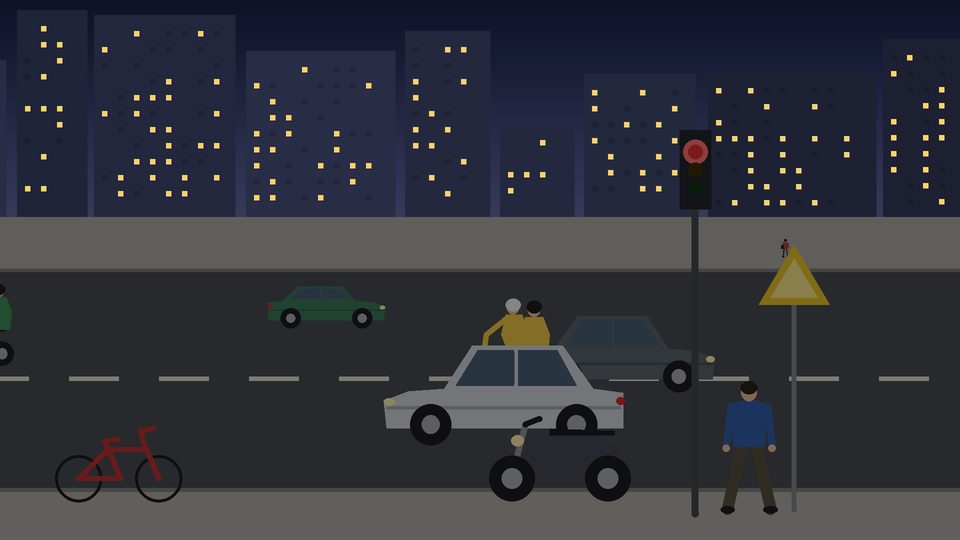Bicycle: (55, 426, 182, 503)
Car: (384, 346, 624, 446), (557, 316, 715, 393), (268, 287, 386, 329)
Motorcycle: (489, 416, 631, 502)
Motorcyclist: (482, 299, 550, 346), (0, 284, 12, 332)
Pedestrian: (721, 381, 778, 515)
Sign: (759, 245, 830, 305)
Traffic light: (680, 130, 712, 210)
